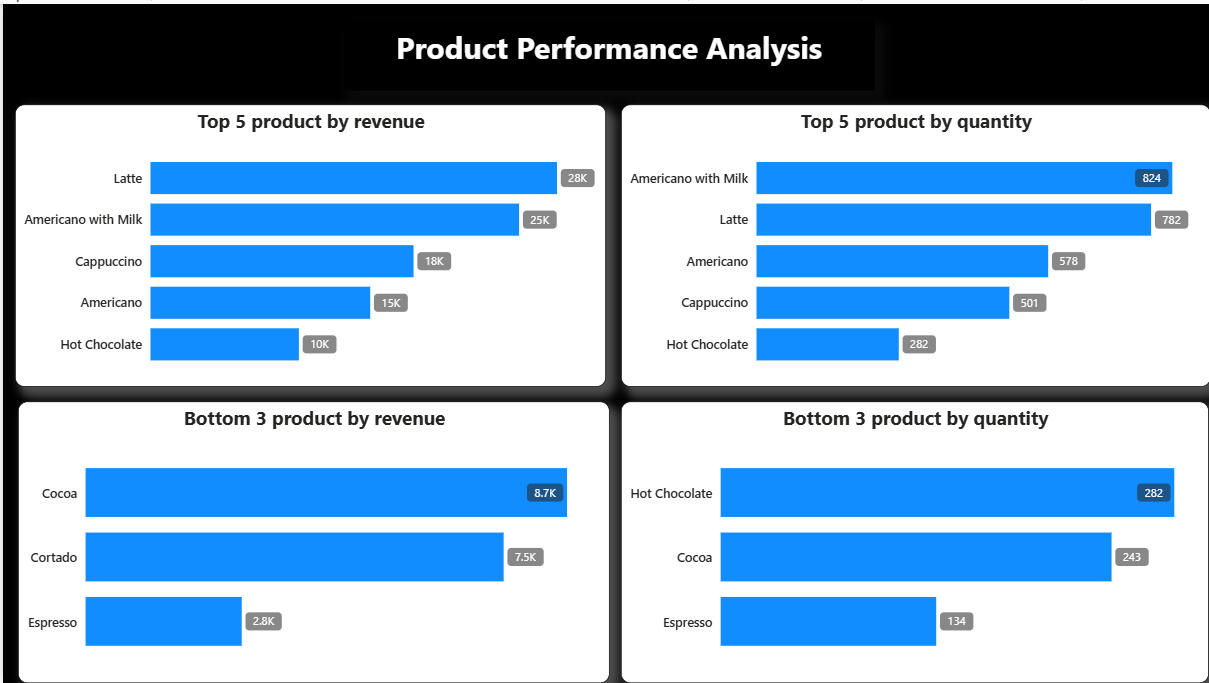

What the dashboard file says about the page in this screenshot:
{"tool":"powerbi","page":{"name":"Product Performance Analysis","canvas":[1280,720],"ordinal":1},"visuals":[{"type":"textbox","box":[360.5,17.9,563.7,73.7],"z":0},{"type":"barChart","title":"Top 5 product by revenue","fields":{"Category":["CoffeeSalesData.coffee_name"],"Y":["CoffeeSalesData.Total Revenue"]},"box":[13,106.9,626.6,299.6],"z":1000},{"type":"barChart","title":"Top 5 product by quantity","fields":{"Category":["CoffeeSalesData.coffee_name"],"Y":["CoffeeSalesData.Total Orders"]},"box":[655.8,106.9,625,299.6],"z":2000},{"type":"barChart","title":"Bottom 3 product by quantity","fields":{"Category":["CoffeeSalesData.coffee_name"],"Y":["CoffeeSalesData.Total Orders"]},"box":[655.8,421.4,623.6,298.6],"z":3000},{"type":"barChart","title":"Bottom 3 product by revenue","fields":{"Category":["CoffeeSalesData.coffee_name"],"Y":["CoffeeSalesData.Total Revenue"]},"box":[15.1,421.4,627.4,298.6],"z":4000}]}

Visuals, with their boxes in screenshot pixels (x1, y1, x2, y2), scaled from the page's 1280x720 canvas onto the 1209x683 screenshot:
textbox: 341:17:873:87
"Top 5 product by revenue" barChart: 12:101:604:386
"Top 5 product by quantity" barChart: 619:101:1208:386
"Bottom 3 product by quantity" barChart: 619:400:1208:682
"Bottom 3 product by revenue" barChart: 14:400:607:682
